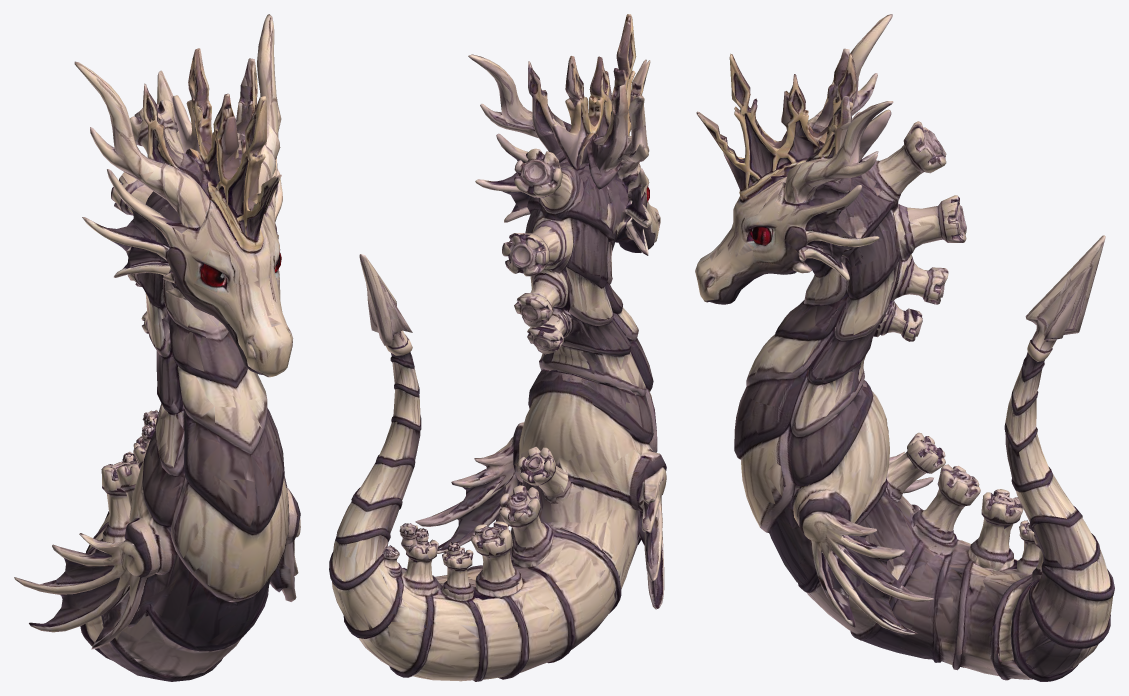
3 views of the same model, side by side, from view 1: azimuth 30°, elevation 25°; view 2: azimuth 150°, elevation 25°; view 3: azimuth 270°, elevation 25° (orthographic). The views are drawn at different scales.
Parts seen in each view (by area): view 1: Mesh_0; view 2: Mesh_0; view 3: Mesh_0.
Part boxes in pixels (left/top/right/bottom): Mesh_0: left=14, top=14, right=300, bottom=681; Mesh_0: left=329, top=14, right=666, bottom=681; Mesh_0: left=695, top=14, right=1114, bottom=681.
Bounding box in the file's own units: 0.8887 × 1.9 × 1.22.
Materials: 1 (1 with a texture image).
